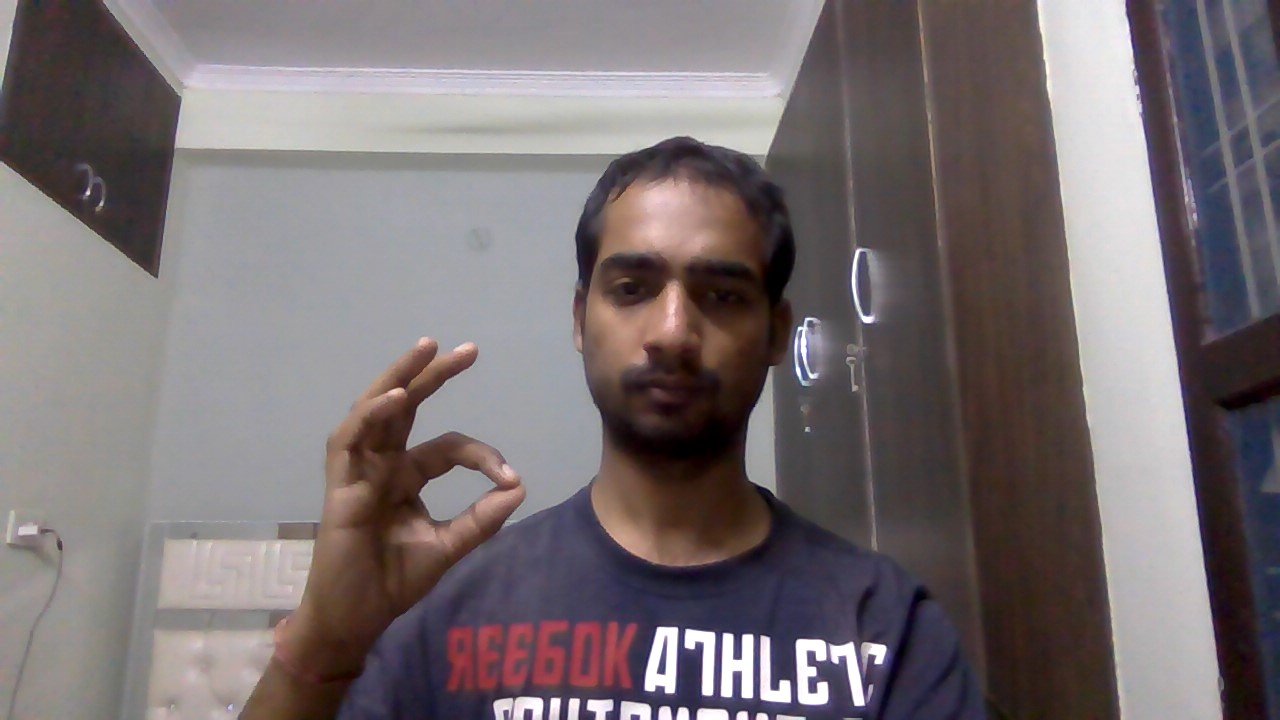Copy: (301, 330, 535, 633)
